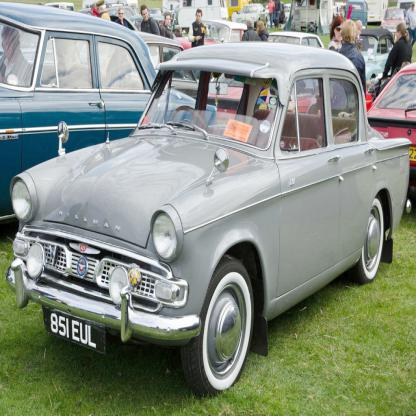Car: (0, 0, 416, 392)
